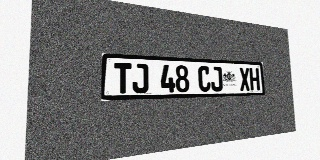4: (160, 64, 175, 93)
8: (175, 65, 189, 92)
C: (198, 66, 211, 92)
H: (249, 68, 260, 91)
J: (132, 63, 149, 93), (210, 66, 223, 91)
T: (114, 63, 132, 94)
X: (239, 67, 250, 91)
